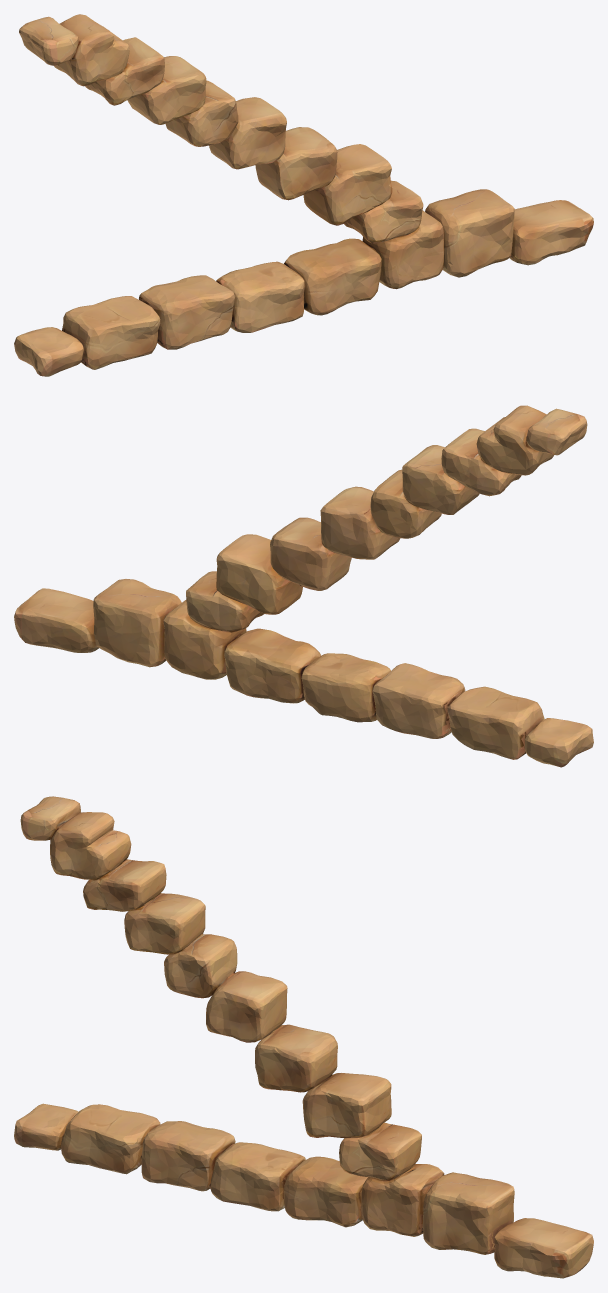
File: Stairs.fbx
3 renders of one model, top to bottom at view 1: azimuth 30°, elevation 25°; view 2: azimuth 150°, elevation 25°; view 3: azimuth 330°, elevation 25°, orthographic.
Parts seen in each view (by area): view 1: temp; view 2: temp; view 3: temp.
Part boxes in pixels (x1=…): temp: x1=14, y1=14, x2=593, y2=376; temp: x1=14, y1=405, x2=593, y2=767; temp: x1=14, y1=796, x2=593, y2=1278.
Size of the model in its own units: 200 by 117 by 20.74.
Materials: 1 (1 with a texture image).
